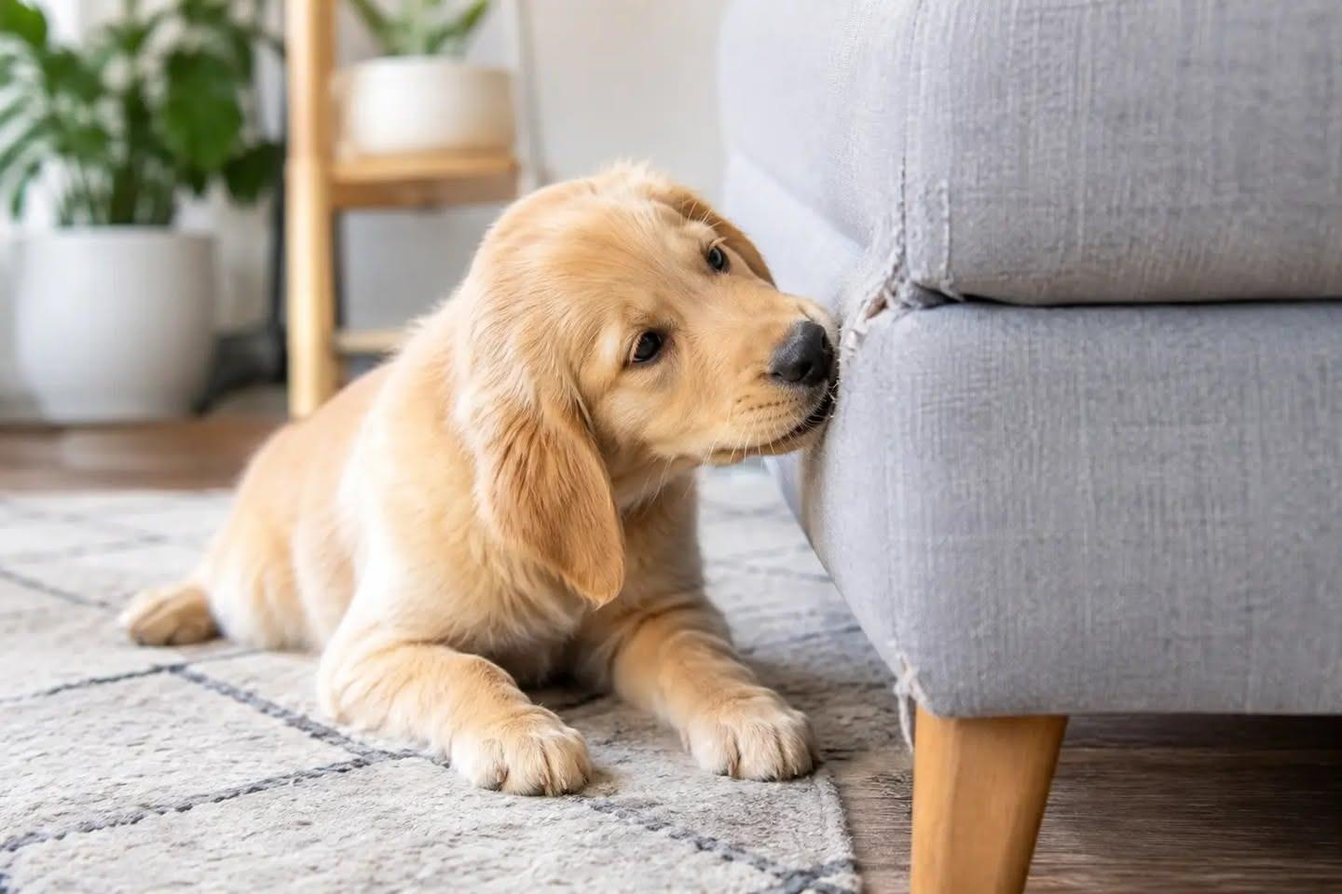puppy-dog: (113, 159, 857, 800)
